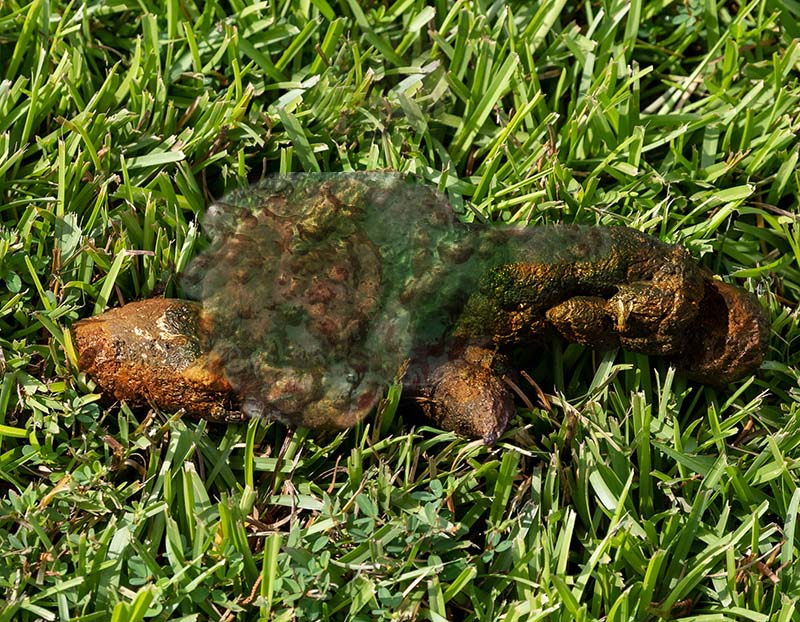Dog: (73, 160, 756, 469)
